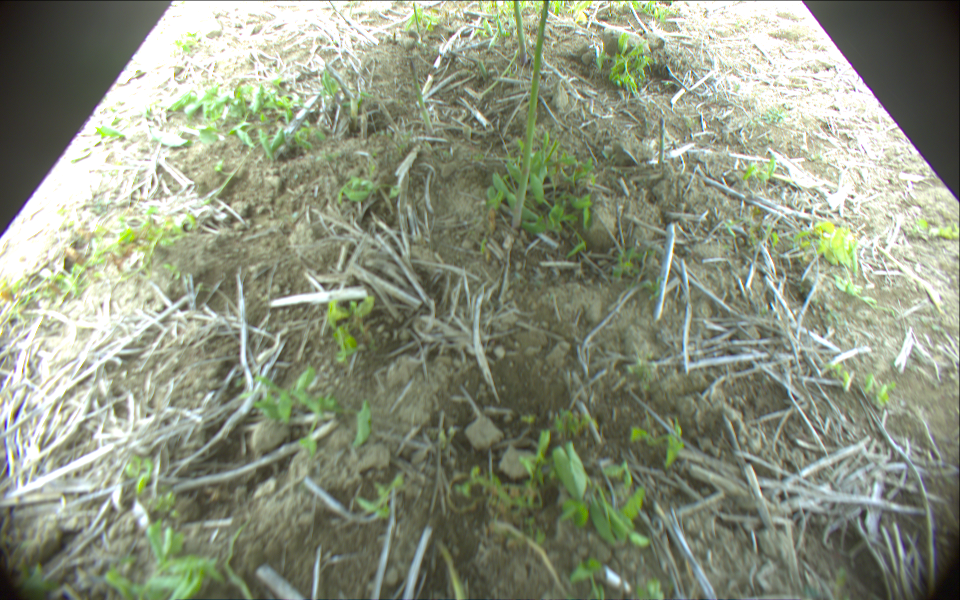aspa: (512, 1, 550, 228), (408, 59, 434, 133), (512, 1, 529, 63)
